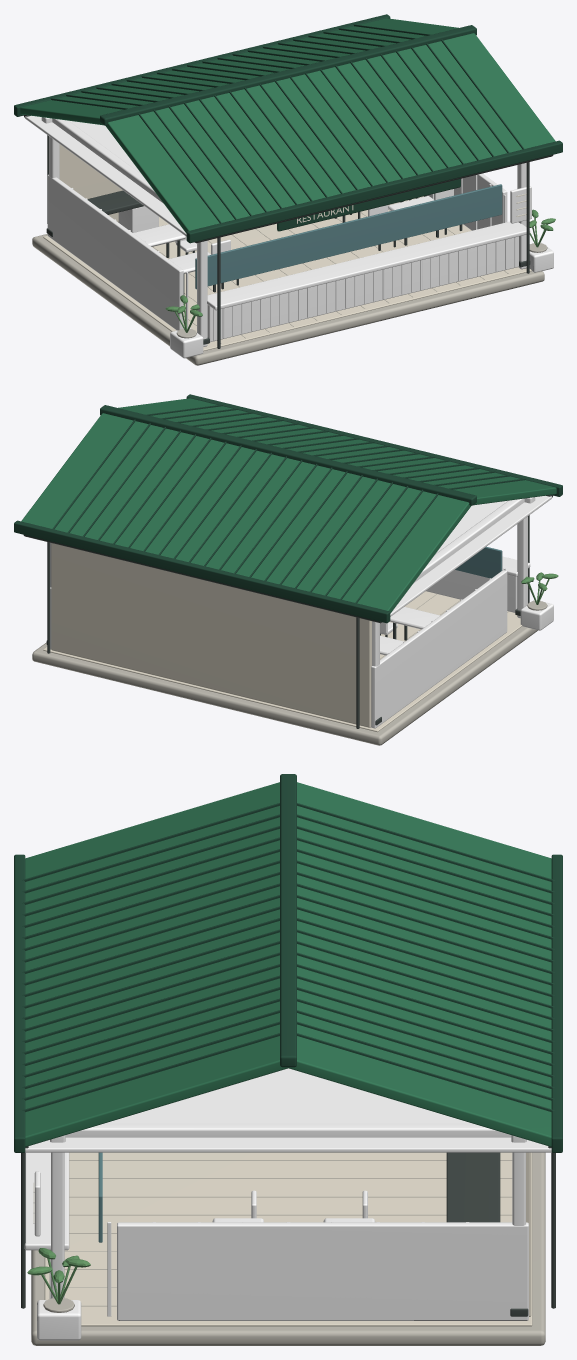
File: restaurant_pavillon_baie_des_rois.glb
The picture shows the model from 3 angles, top to bottom: view 1: azimuth 30°, elevation 25°; view 2: azimuth 150°, elevation 25°; view 3: azimuth 270°, elevation 25°; orthographic projection. The views are drawn at different scales.
Visible parts, largest first — view 1: Pan_toiture_vert_deux_pans, Credence_comptoir, Pan_toiture_vert_deux_pans.001, Claustra_lateral_bas, Facade_comptoir, Carrelage_interieur, Socle_beton, Plan_comptoir, Bandeau_rive_longitudinale, Faitage_metallique, Sous_face_bois, Mur_arriere_enduit (+15 smaller); view 2: Pan_toiture_vert_deux_pans.001, Mur_arriere_enduit, Pan_toiture_vert_deux_pans, Claustra_lateral_bas, Socle_beton, Bandeau_rive_longitudinale.001, Faitage_metallique, Sous_face_bois, Carrelage_interieur, Bandeau_rive_longitudinale, Facade_comptoir, Poutre_transversale (+7 smaller); view 3: Pan_toiture_vert_deux_pans, Pan_toiture_vert_deux_pans.001, Claustra_lateral_bas.001, Carrelage_interieur, Sous_face_bois, Socle_beton, Poutre_transversale.001, Faitage_metallique, Plan_travail_cuisine, Bandeau_rive_longitudinale, Bandeau_rive_longitudinale.001, Plan_comptoir (+50 smaller).
Part boxes in pixels (x1,y1,x2,y2): Pan_toiture_vert_deux_pans: (105,33,555,233); Credence_comptoir: (195,184,502,289); Pan_toiture_vert_deux_pans.001: (20,18,458,125); Claustra_lateral_bas: (47,174,183,330); Facade_comptoir: (207,236,518,342); Carrelage_interieur: (43,196,531,351); Socle_beton: (32,234,544,365); Plan_comptoir: (207,221,530,310); Bandeau_rive_longitudinale: (186,140,562,243); Faitage_metallique: (100,25,476,125); Sous_face_bois: (25,115,194,242); Mur_arriere_enduit: (59,144,122,222); Pan_toiture_vert_deux_pans.001: (21,413,471,613); Mur_arriere_enduit: (51,543,371,727); Pan_toiture_vert_deux_pans: (118,398,556,505); Claustra_lateral_bas: (371,570,507,728); Socle_beton: (32,626,537,745); Bandeau_rive_longitudinale.001: (14,520,390,623); Faitage_metallique: (100,405,476,505); Sous_face_bois: (382,495,551,622); Carrelage_interieur: (43,591,522,732); Bandeau_rive_longitudinale: (186,394,562,496); Facade_comptoir: (426,570,517,612); Poutre_transversale: (413,498,524,583); Pan_toiture_vert_deux_pans: (25,782,288,1146); Pan_toiture_vert_deux_pans.001: (288,782,551,1146); Claustra_lateral_bas.001: (117,1222,528,1320); Carrelage_interieur: (44,1152,532,1326); Sous_face_bois: (25,1068,551,1152); Socle_beton: (31,1152,545,1345); Poutre_transversale.001: (65,1123,511,1137); Faitage_metallique: (280,774,296,1067); Plan_travail_cuisine: (446,1152,500,1222); Bandeau_rive_longitudinale: (14,854,25,1152); Bandeau_rive_longitudinale.001: (551,854,562,1152); Plan_comptoir: (24,1152,69,1250).
Bounding box in the file's own units: 9.65 × 4.62 × 7.66.
